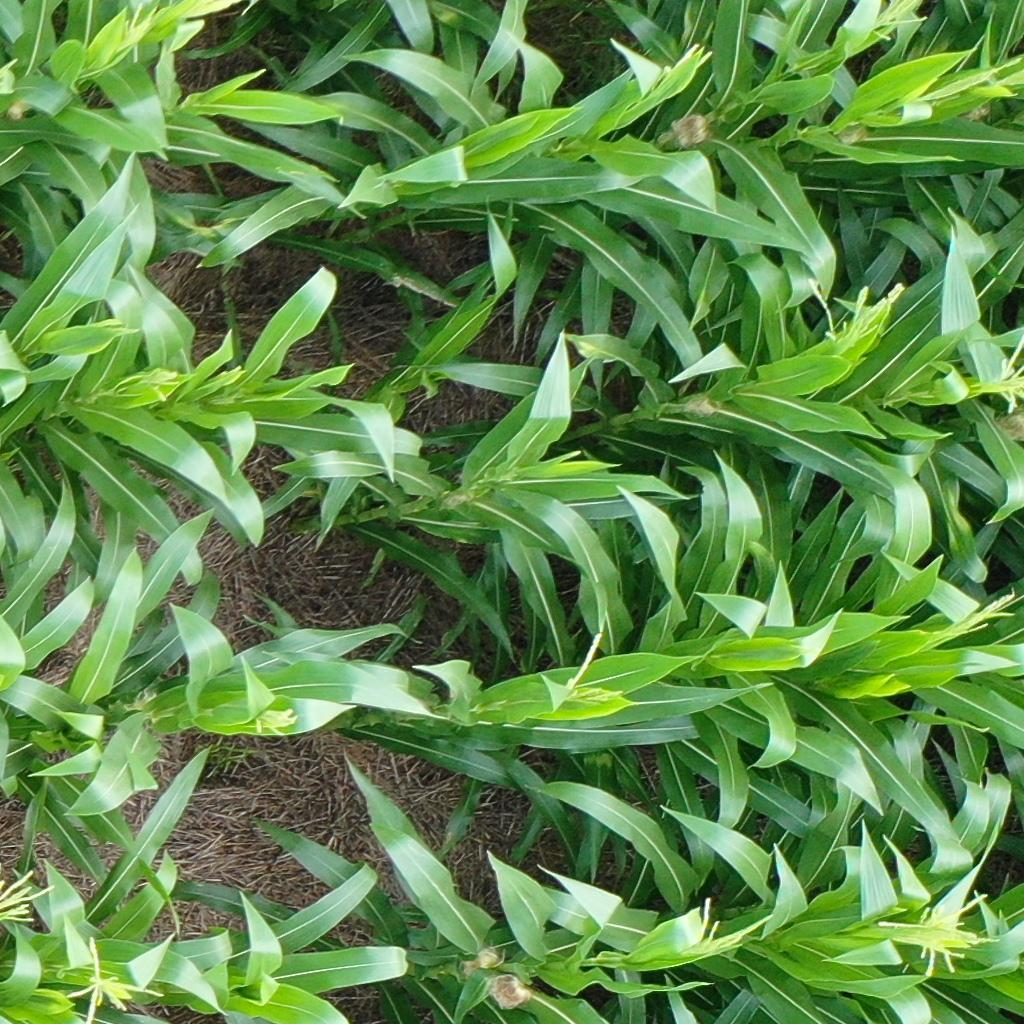Tassel: (875, 891, 990, 980), (65, 936, 164, 1024), (803, 278, 900, 354), (682, 895, 775, 957), (564, 631, 626, 711), (946, 583, 1018, 638), (982, 331, 1024, 415), (1, 869, 55, 930), (866, 1, 929, 45), (121, 3, 165, 61), (249, 702, 301, 742), (663, 40, 711, 79), (132, 370, 183, 403)
